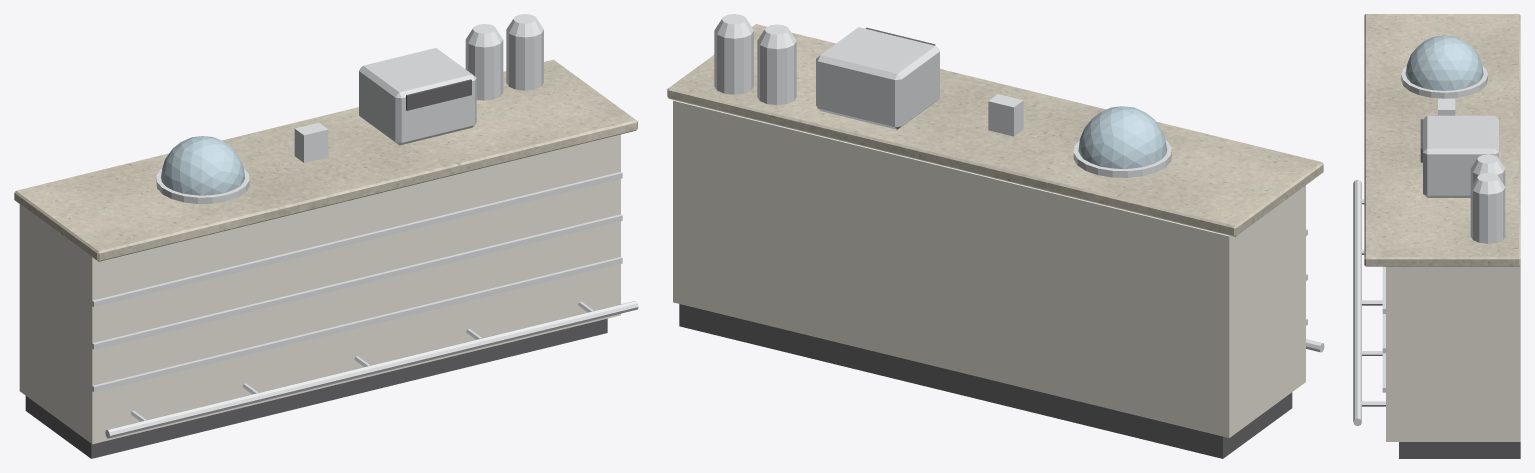
Rendered from cafe_counter.glb.
3 views of the same model, side by side, from view 1: azimuth 30°, elevation 25°; view 2: azimuth 150°, elevation 25°; view 3: azimuth 270°, elevation 25° (orthographic). The views are drawn at different scales.
Parts seen in each view (by area): view 1: cafe_counter_cream, cafe_counter_terrazzo, cafe_counter_chrome, cafe_counter_dark, cafe_counter_metal, cafe_counter_glass; view 2: cafe_counter_cream, cafe_counter_terrazzo, cafe_counter_dark, cafe_counter_metal, cafe_counter_chrome, cafe_counter_glass; view 3: cafe_counter_terrazzo, cafe_counter_cream, cafe_counter_chrome, cafe_counter_metal, cafe_counter_glass, cafe_counter_dark.
Boxes of the visible parts, x1,y1,x2,y2 form: cafe_counter_cream: (19, 134, 620, 444); cafe_counter_terrazzo: (14, 59, 637, 261); cafe_counter_chrome: (92, 14, 638, 438); cafe_counter_dark: (25, 79, 607, 458); cafe_counter_metal: (359, 48, 476, 145); cafe_counter_glass: (160, 136, 245, 195); cafe_counter_cream: (673, 100, 1305, 437); cafe_counter_terrazzo: (667, 24, 1323, 236); cafe_counter_dark: (679, 27, 1292, 458); cafe_counter_metal: (816, 27, 939, 129); cafe_counter_chrome: (714, 14, 1324, 352); cafe_counter_glass: (1078, 106, 1167, 169); cafe_counter_terrazzo: (1364, 14, 1520, 266); cafe_counter_cream: (1386, 265, 1520, 441); cafe_counter_chrome: (1353, 66, 1505, 426); cafe_counter_metal: (1423, 115, 1498, 197); cafe_counter_glass: (1405, 35, 1483, 90); cafe_counter_dark: (1399, 119, 1520, 458).
Bounding box in the file's own units: 2.66 × 1.35 × 0.77.
Materials: 6 (1 with a texture image).
